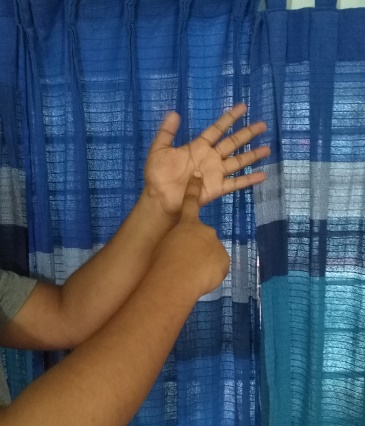oo: (142, 100, 272, 290)
